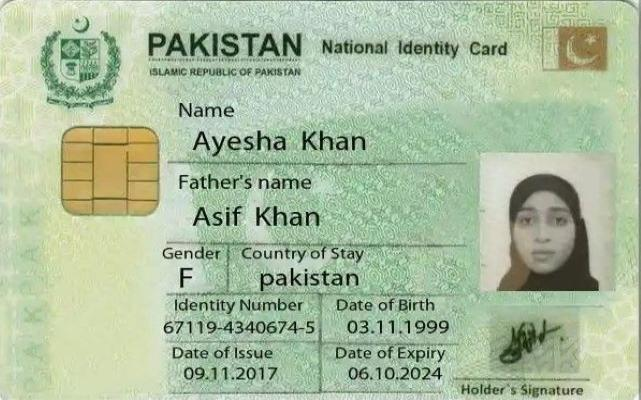fname: (185, 202, 325, 233)
name: (187, 125, 372, 155)
number: (155, 315, 318, 340)
